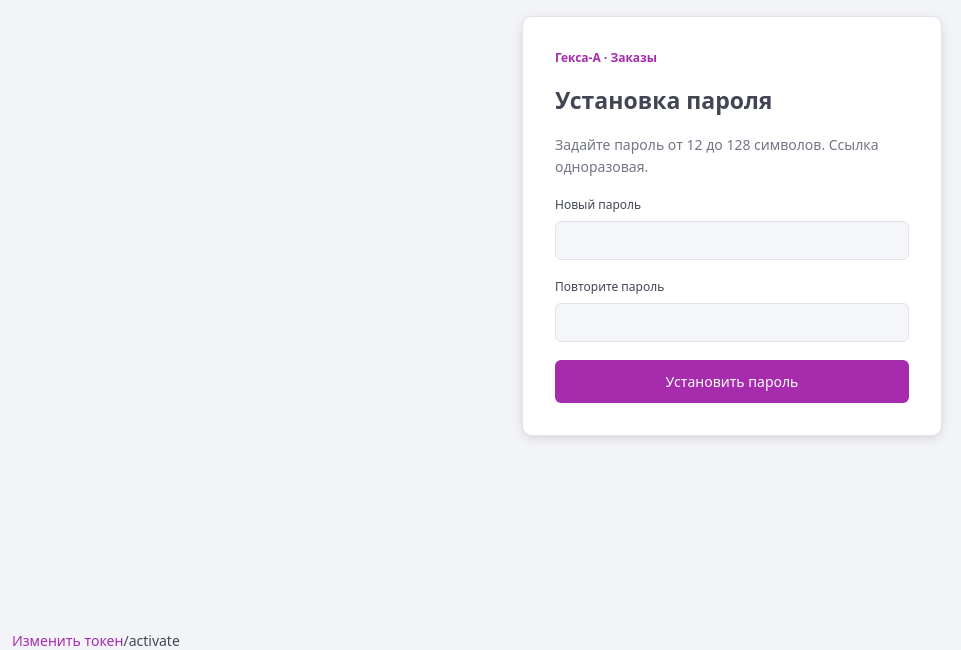
Test: uses the changed URL token when the fragment changes without a page reload
(page scrolled)
Click the link "Изменить токен".
click(68, 640)  # box [12, 631, 123, 649]
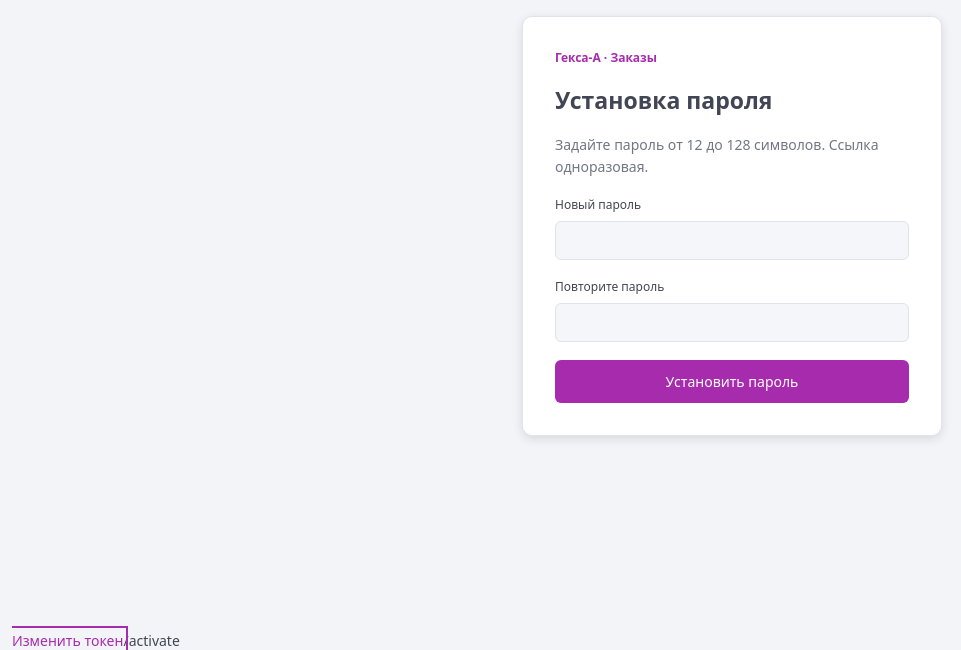
Type "test-password-123" into the password field labelled "Новый пароль".
click(732, 241); type("test-password-123")  # box [555, 221, 909, 260]
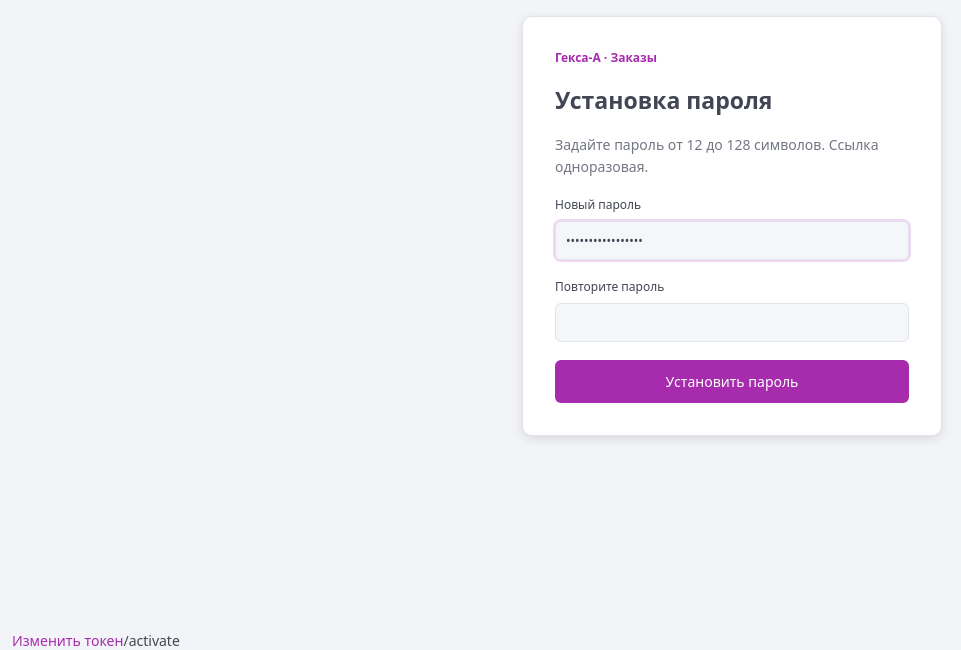
Type "test-password-123" into the password field labelled "Повторите пароль".
click(732, 323); type("test-password-123")  # box [555, 303, 909, 342]
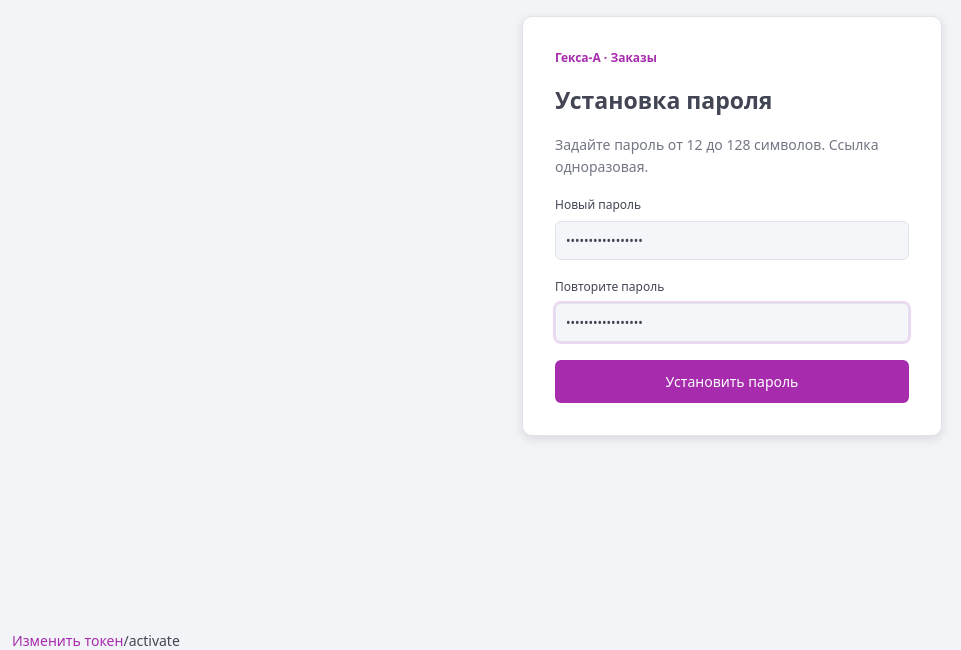
Click the button "Установить пароль".
click(732, 382)  # box [555, 360, 909, 403]
(page scrolled)
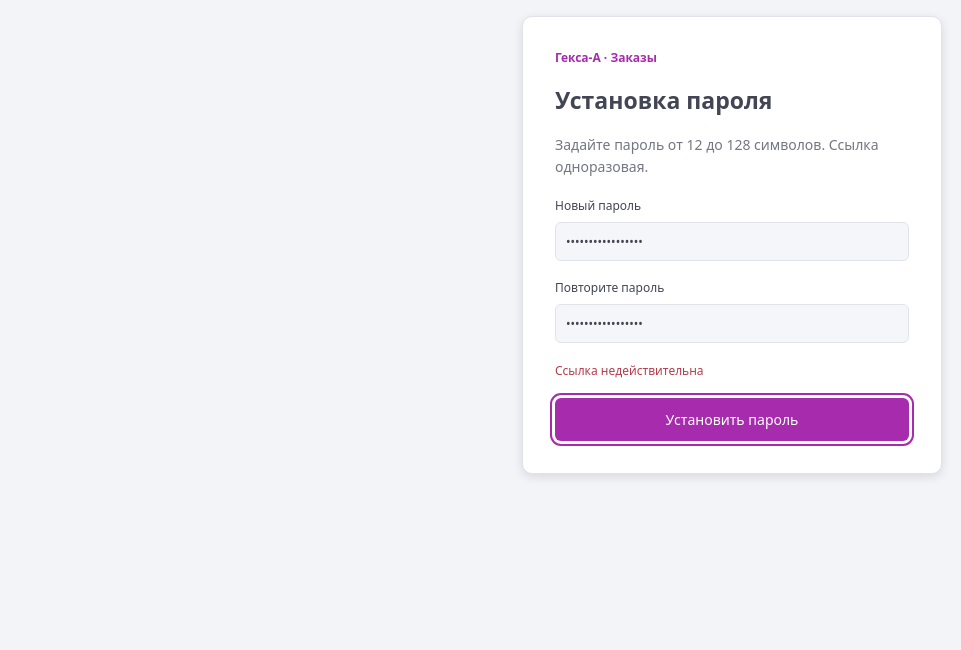
Check: the message reads "Ссылка недействительна", box [555, 362, 704, 379]
